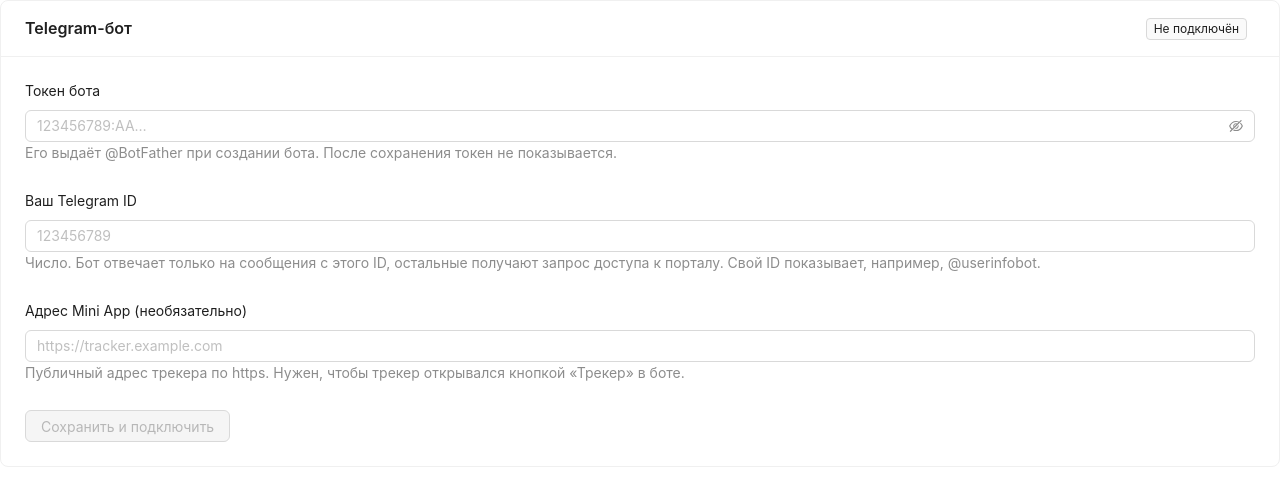
Scenario: Настройки: Telegram-бот › до подключения кнопка недоступна, пока не введены токен и ID
The image size is (1280, 484).
Expected: the button "Сохранить и подключить" is disabled, [25,410,230,442]
Type "123456789:AAHdqTcvCH1vGWJxfSeofSAs0K5PALDsaw" into the password field labelled "Токен бота" at (631, 126), box [37,115,1225,137]
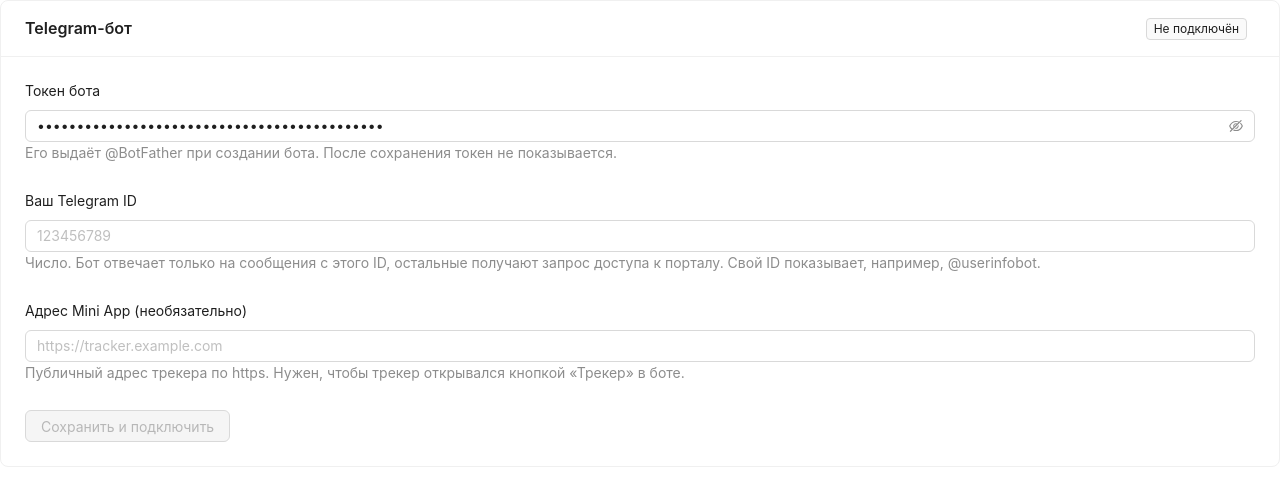
Expected: the button "Сохранить и подключить" is disabled, [25,410,230,442]
Type "42" into the field labelled "Ваш Telegram ID" at (640, 236), box [25,220,1255,252]
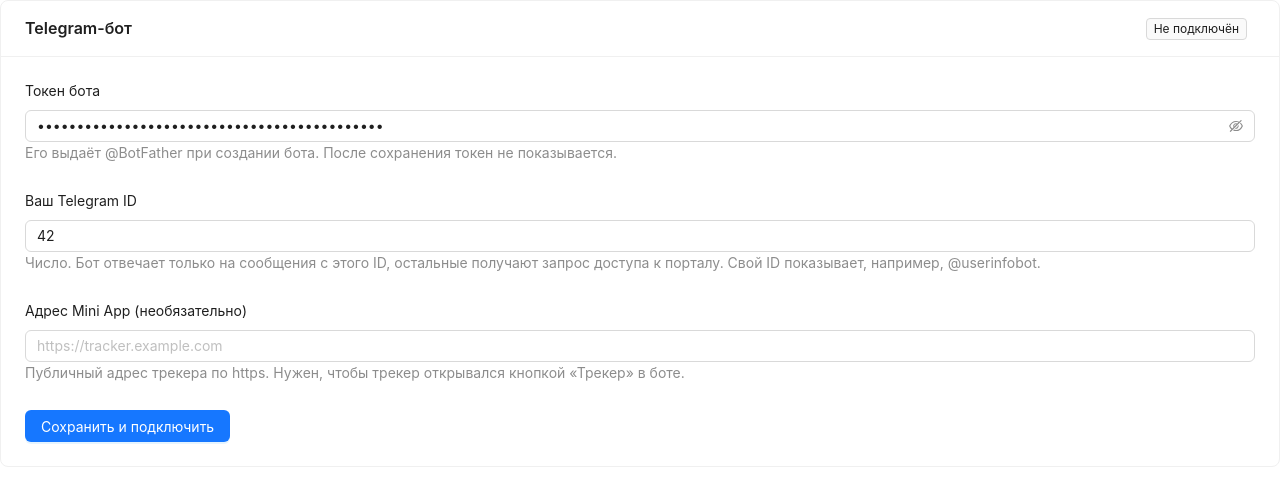
Expected: the button "Сохранить и подключить" is enabled, [25,410,230,442]
